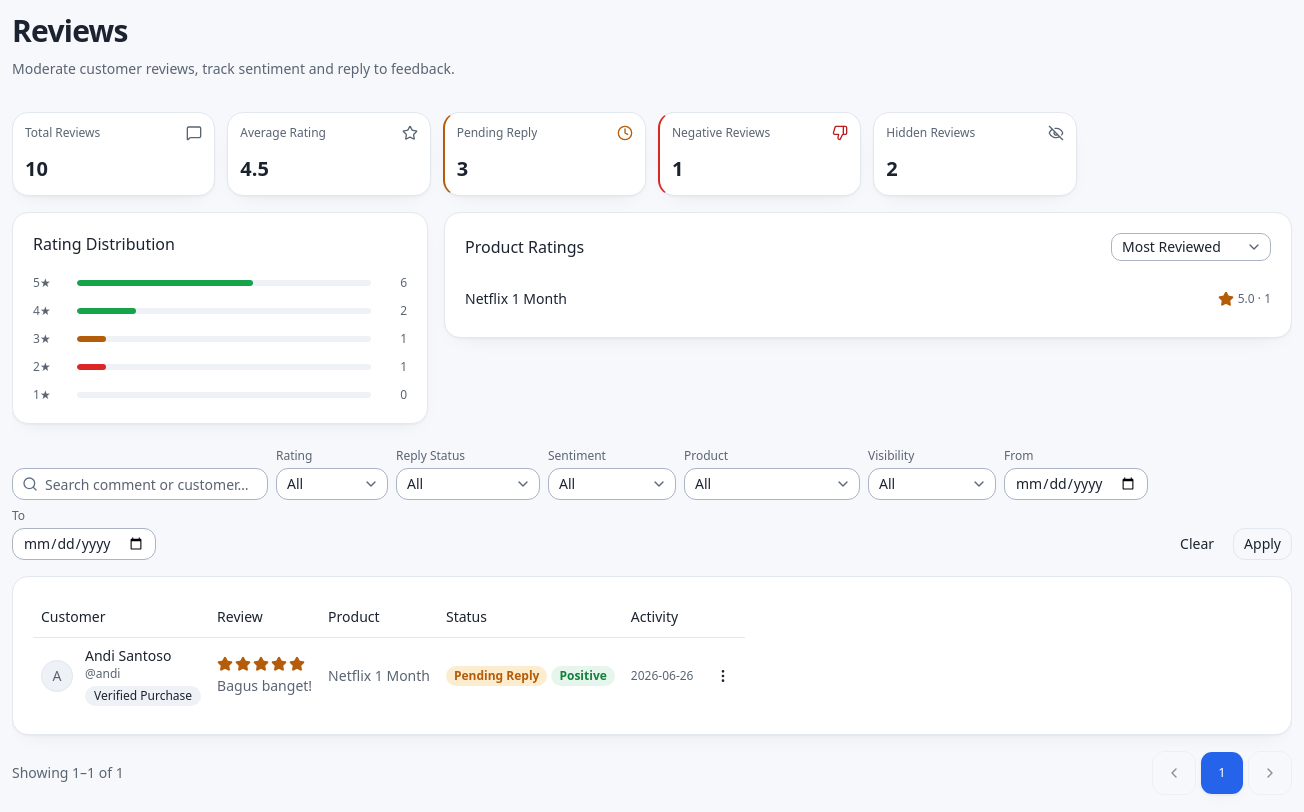
Test: ReviewsPage › hides a review via the dropdown's Hide action (moved off the standalone button) and refetches
This screenshot has width=1304, height=812.
Expected: the text "Bagus banget!" is shown, [217,676,312,696]
Click the button named "Actions for review #1": (724, 676) [710,662,738,690]
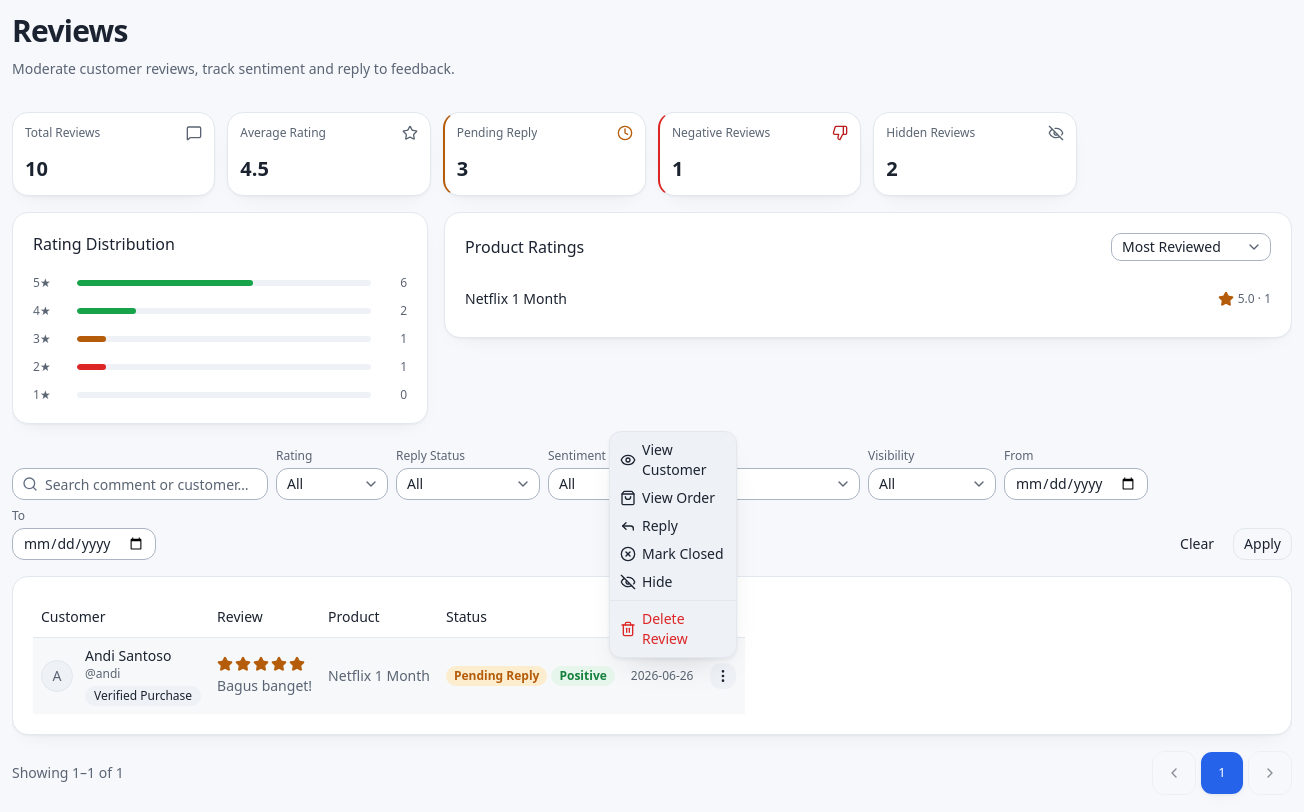
Click the menu item "Hide": (646, 582) [620,572,672,591]
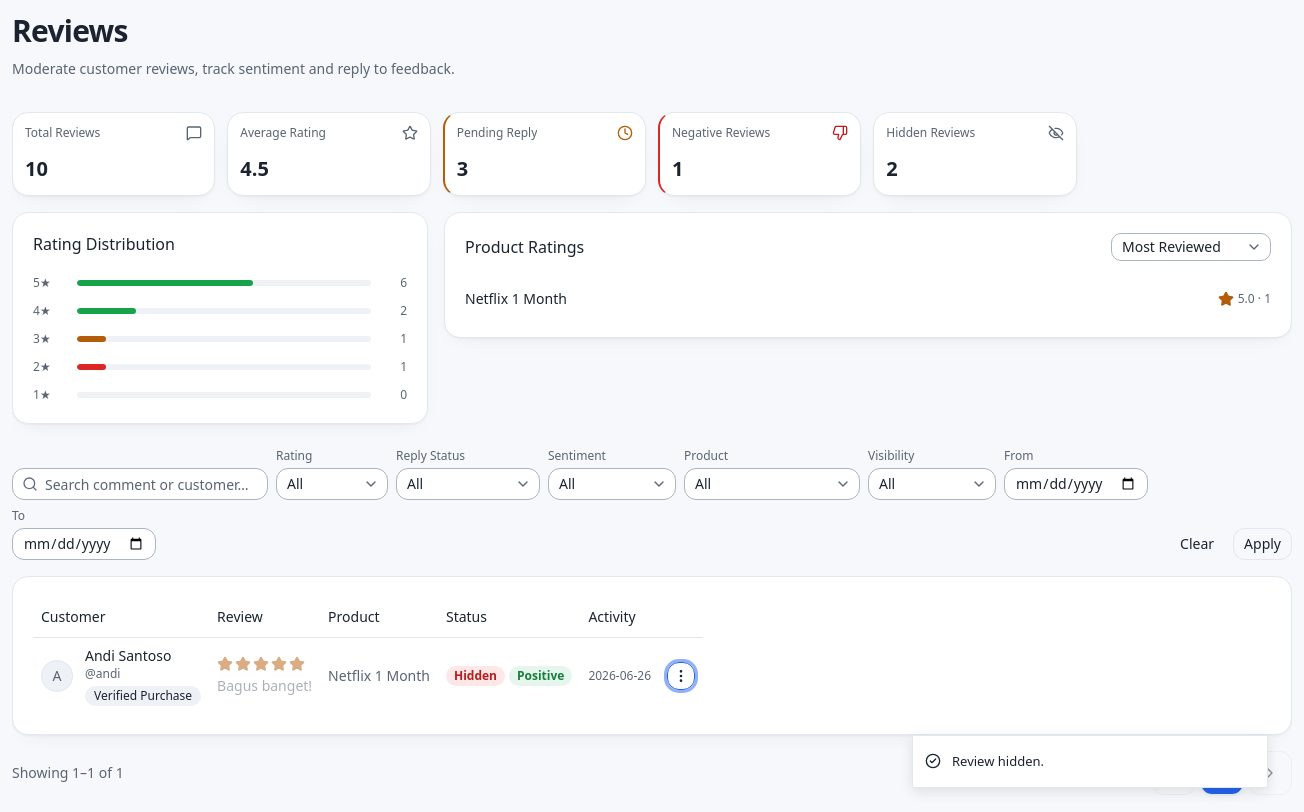
Expected: the text "Review hidden." is shown, [952,752,1044,771]
Click the button named "Actions for review #1": (681, 676) [667,662,695,690]
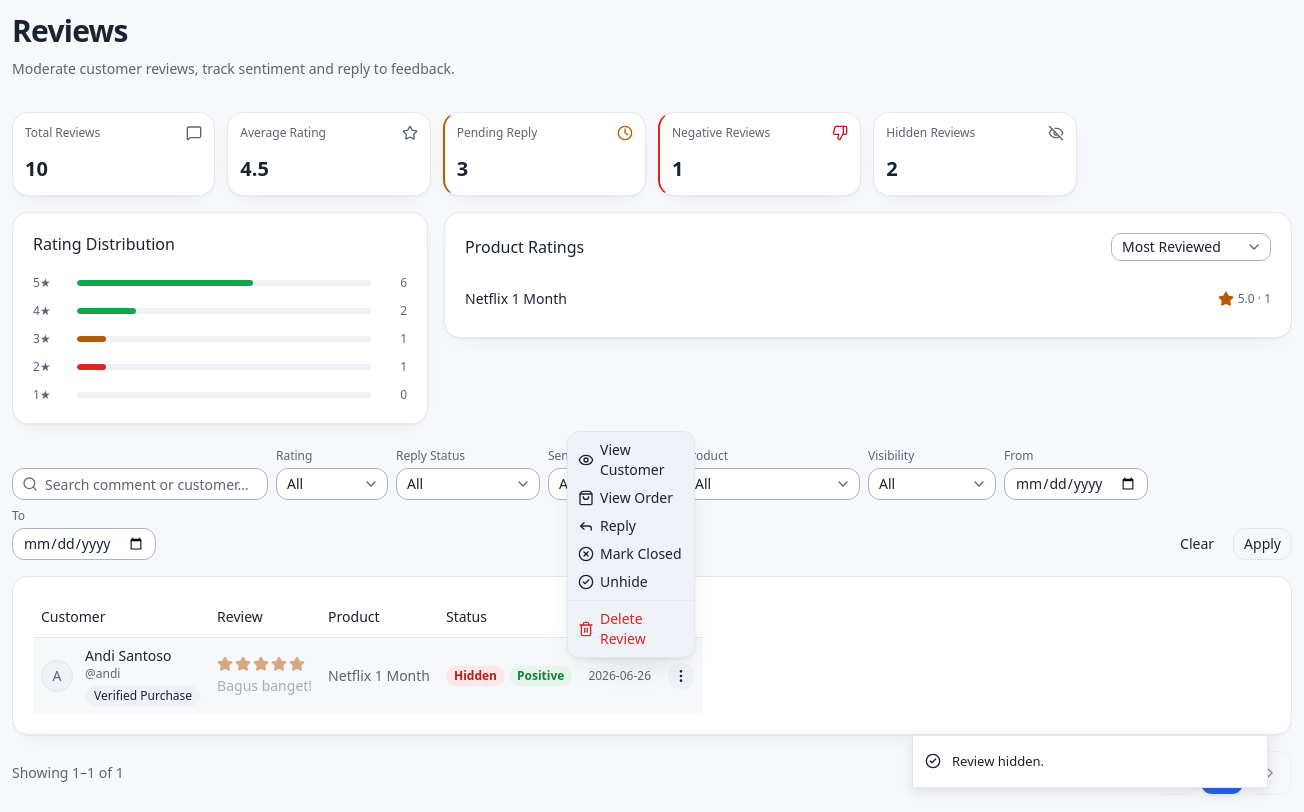
Expected: the menu item "Unhide" is shown, [578,572,648,591]
